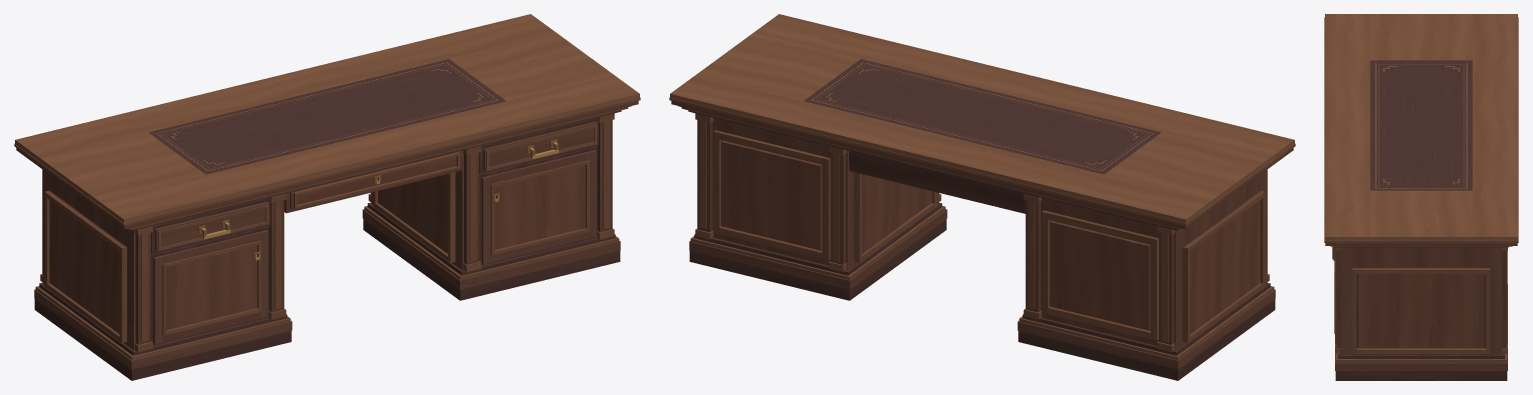
The model's file is ivan_desk_mesh.glb.
The picture shows the model from 3 angles, left to right: view 1: azimuth 30°, elevation 25°; view 2: azimuth 150°, elevation 25°; view 3: azimuth 270°, elevation 25°; orthographic projection. The views are drawn at different scales.
Visible parts, largest first — view 1: Desktop, Left pedestal, Writing surface, Right pedestal, Left pedestal - cupboard, Right pedestal - cupboard, Cornice, Centre drawer, Left pedestal - drawer, Right pedestal - drawer; view 2: Desktop, Left pedestal, Right pedestal, Writing surface, Cornice, Bridge; view 3: Desktop, Right pedestal, Writing surface, Cornice.
Part boxes in pixels (bbox=[...]): Desktop: bbox=[14, 14, 640, 226]; Left pedestal: bbox=[34, 169, 292, 380]; Writing surface: bbox=[148, 59, 506, 174]; Right pedestal: bbox=[362, 113, 620, 300]; Left pedestal - cupboard: bbox=[151, 226, 269, 345]; Right pedestal - cupboard: bbox=[479, 146, 597, 265]; Cornice: bbox=[16, 101, 638, 230]; Centre drawer: bbox=[284, 150, 463, 213]; Left pedestal - drawer: bbox=[151, 197, 270, 254]; Right pedestal - drawer: bbox=[479, 117, 598, 174]; Desktop: bbox=[669, 14, 1295, 226]; Left pedestal: bbox=[1017, 169, 1275, 380]; Right pedestal: bbox=[689, 113, 947, 300]; Writing surface: bbox=[803, 59, 1161, 174]; Cornice: bbox=[671, 101, 1293, 230]; Bridge: bbox=[849, 151, 1025, 213]; Desktop: bbox=[1324, 14, 1518, 242]; Right pedestal: bbox=[1335, 247, 1507, 380]; Writing surface: bbox=[1370, 60, 1472, 190]; Cornice: bbox=[1325, 243, 1517, 247].
Bounding box in the file's own units: 2.56 × 0.8 × 0.94.
Materials: 9 (9 with a texture image).
